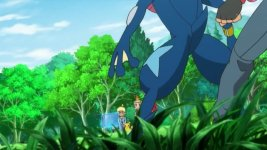greninja: (104, 1, 242, 131)
